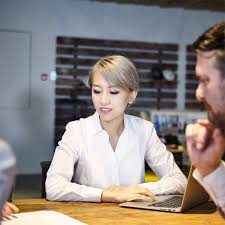F_shirt: (46, 113, 187, 202)
